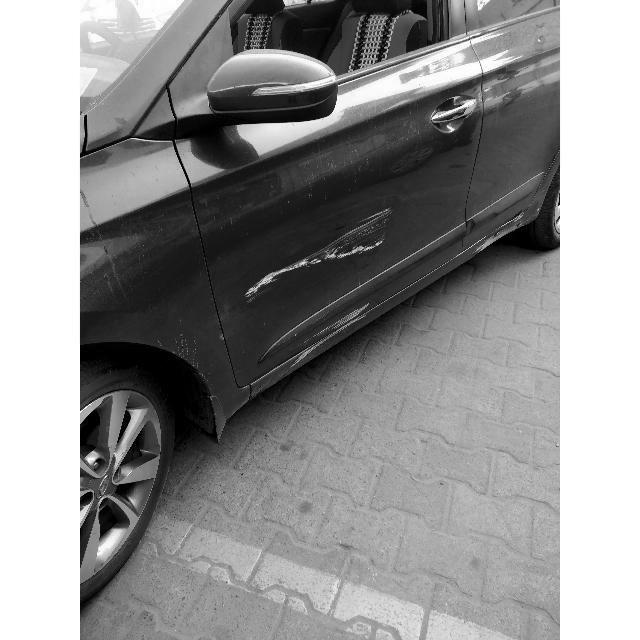doorouter-dent: (226, 110, 471, 387)
